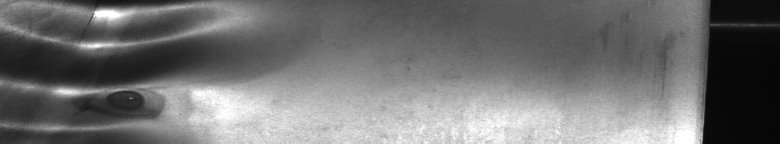ke: (4, 4, 244, 136)
